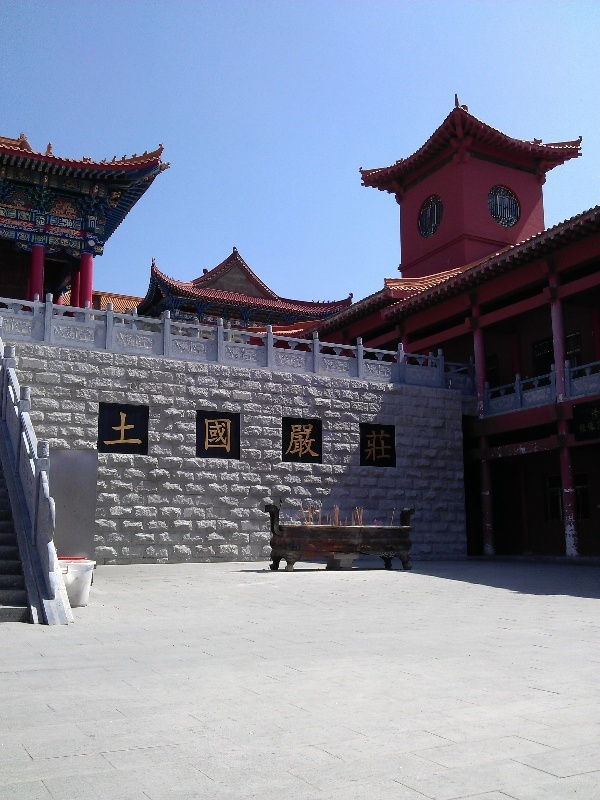text: (129, 411, 145, 446), (289, 423, 304, 460), (305, 423, 320, 460), (113, 411, 128, 446), (209, 420, 224, 452), (369, 431, 384, 463), (102, 411, 112, 446), (385, 431, 393, 463), (225, 420, 232, 452), (284, 423, 288, 460), (205, 420, 208, 452), (365, 431, 368, 463)
